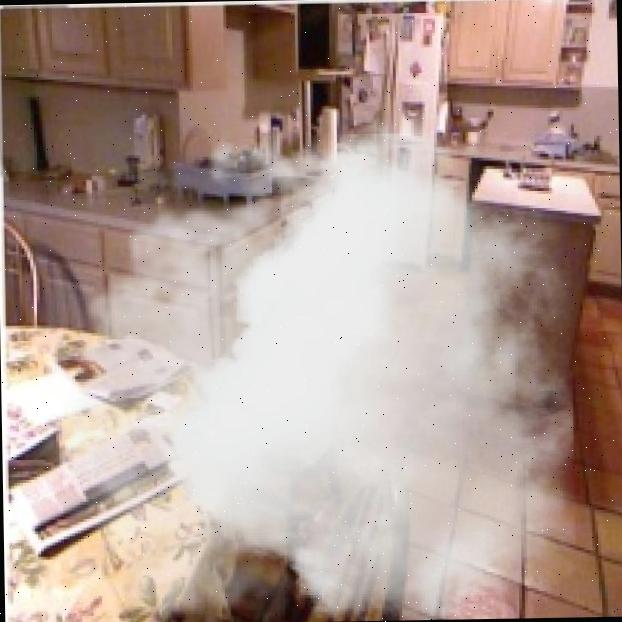smoke: (16, 99, 576, 622)
